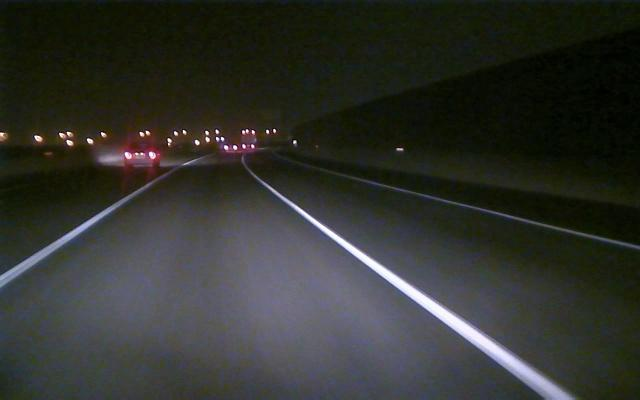lane: (259, 181, 579, 399), (351, 176, 640, 251), (0, 171, 168, 292)
